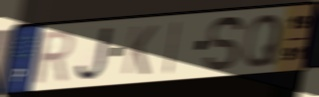I: (162, 19, 183, 78)
J: (74, 24, 115, 83)
K: (120, 23, 159, 77)
Q: (242, 12, 285, 70)
R: (32, 28, 74, 88)
S: (203, 14, 246, 74)
